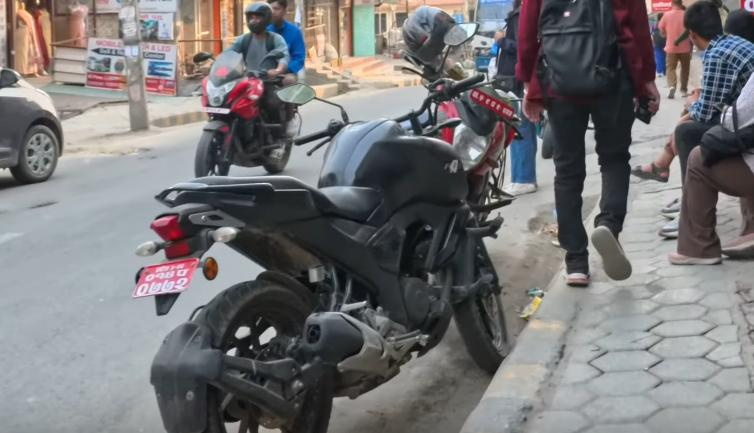bike: (131, 19, 513, 433)
